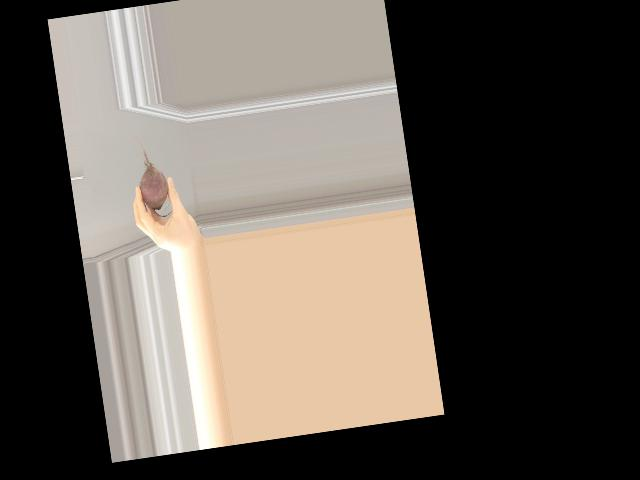beet: (132, 128, 172, 218)
